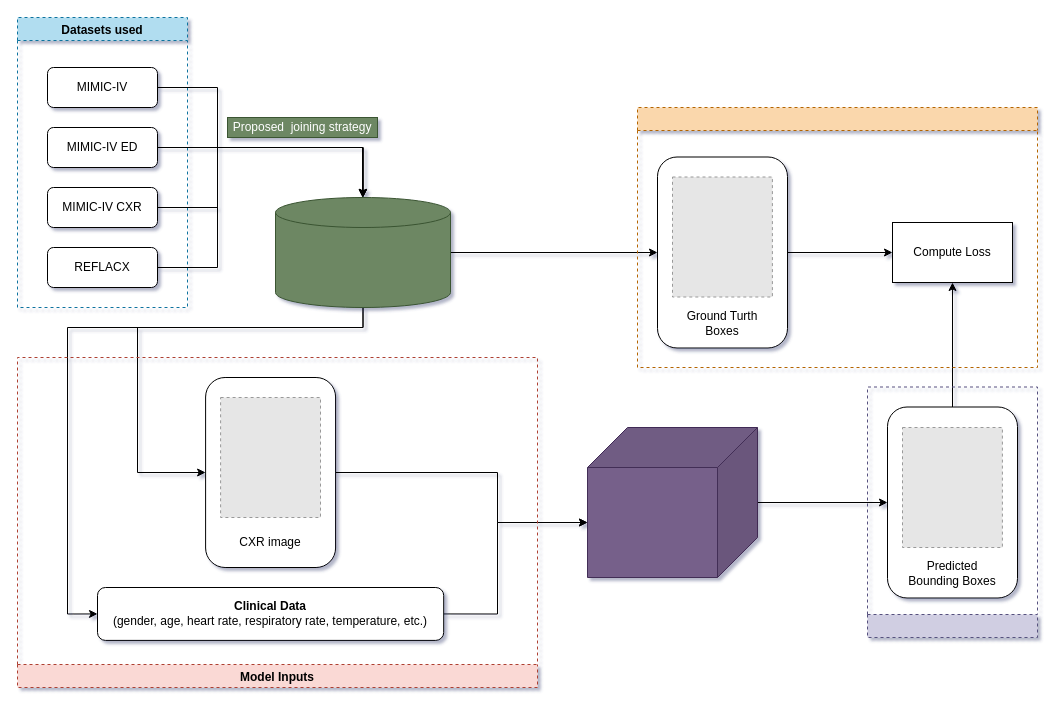
This 1061x711 diagram has some shape labels left out. Grey dashed boxes stand in for pictures. The box of each missing label's shape, as (x1, y1, x2, y2) in pixels:
Model Output: (866, 386, 1038, 638)
Our Multimodal Dataset (CXR image + Clinical data): (274, 196, 450, 308)
Proposed Model: (586, 426, 758, 578)
Training phase: (636, 106, 1038, 368)
